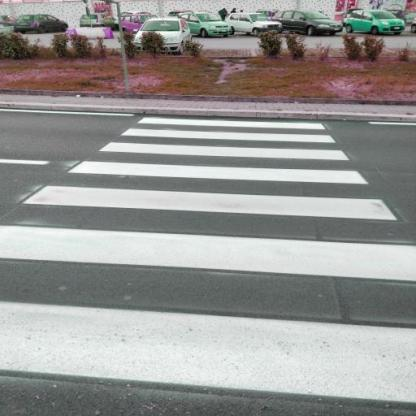crosswalk: (0, 183, 416, 289), (93, 126, 356, 164)
